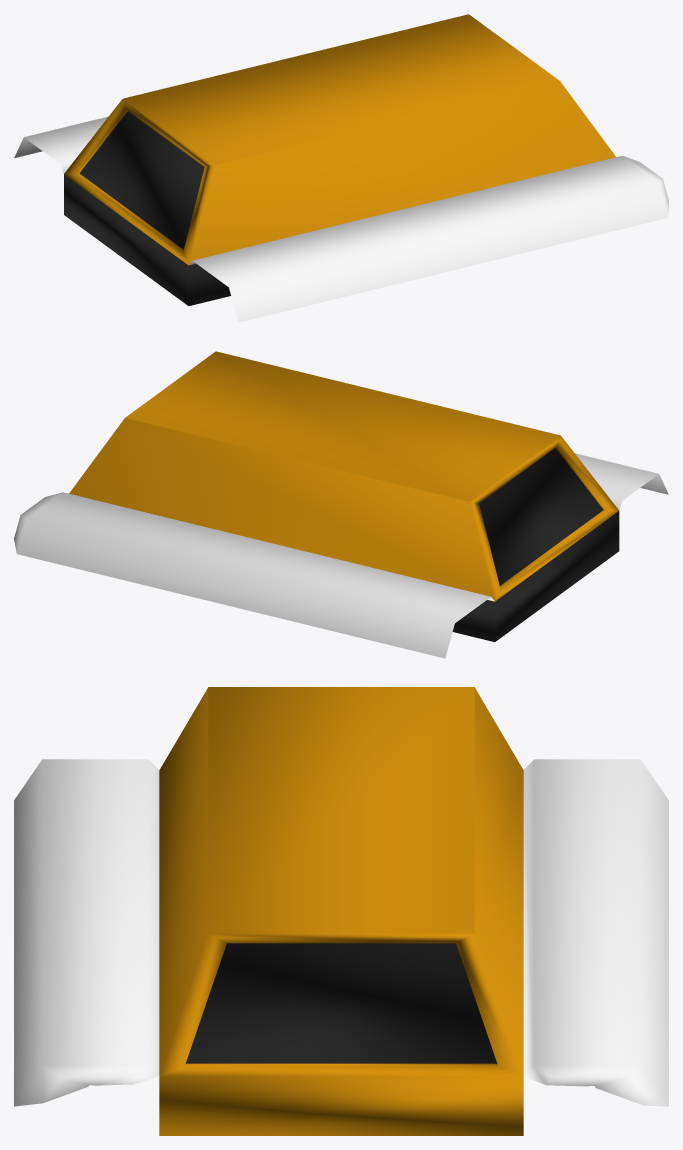
The model's file is tank.fbx.
3 renders of one model, top to bottom at view 1: azimuth 30°, elevation 25°; view 2: azimuth 150°, elevation 25°; view 3: azimuth 270°, elevation 25°, orthographic. The views are drawn at different scales.
Visible parts, largest first — view 1: Plane; view 2: Plane; view 3: Plane.
Part boxes in pixels (<box>): Plane: <box>14,14,668,322</box>; Plane: <box>14,351,668,658</box>; Plane: <box>14,687,668,1135</box>.
Size of the model in its own units: 411 by 105 by 362.
